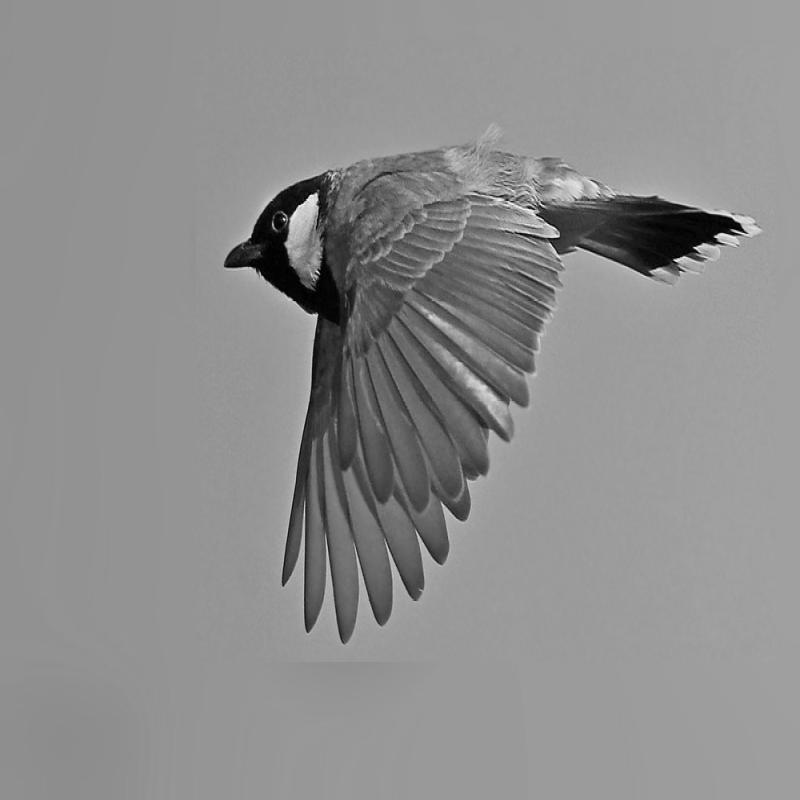white-eared bulbul: (214, 118, 769, 651)
